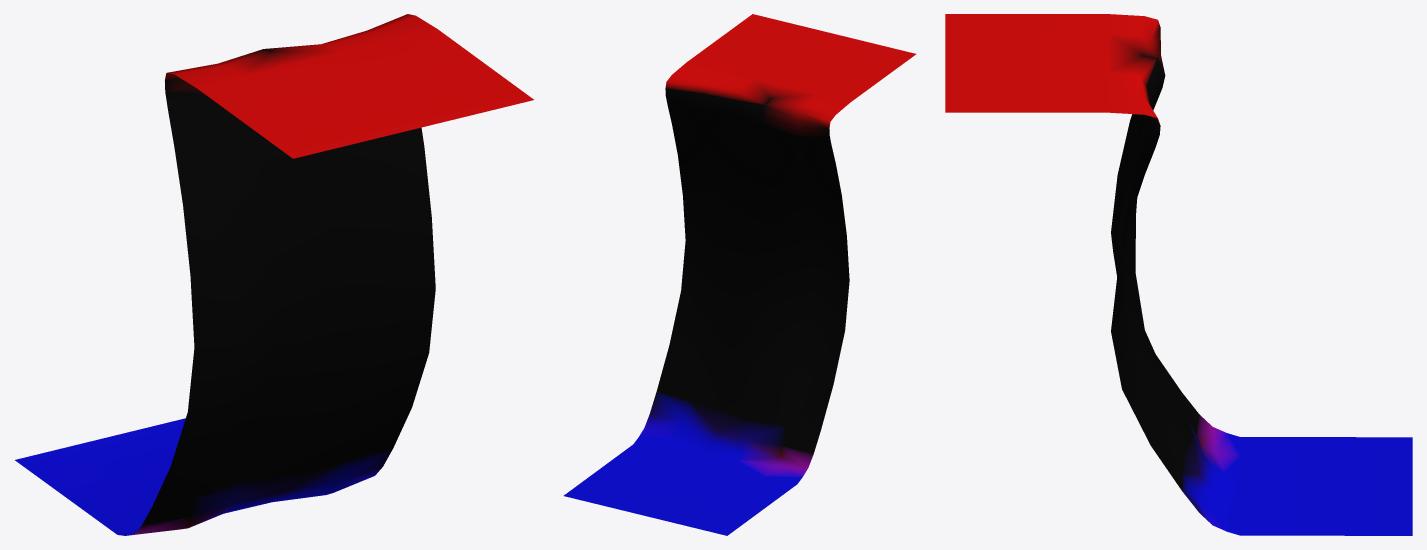
Rendered from GroundCliff00A 2M for Water Background.fbx.
The picture shows the model from 3 angles, left to right: view 1: azimuth 30°, elevation 25°; view 2: azimuth 150°, elevation 25°; view 3: azimuth 270°, elevation 25°; orthographic projection. The views are drawn at different scales.
Parts seen in each view (by area): view 1: GroundCliff00A 2M for Water Background; view 2: GroundCliff00A 2M for Water Background; view 3: GroundCliff00A 2M for Water Background.
Boxes of the visible parts, x1,y1,x2,y2 form: GroundCliff00A 2M for Water Background: (15, 14, 533, 535); GroundCliff00A 2M for Water Background: (563, 14, 916, 535); GroundCliff00A 2M for Water Background: (945, 14, 1412, 535).
Bounding box in the file's own units: 1 × 2 × 2.
